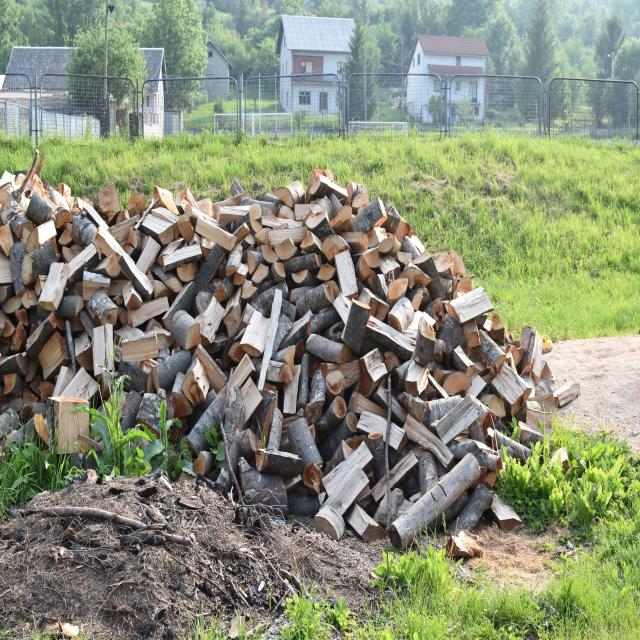restos de madeira: (318, 440, 374, 518), (416, 452, 472, 530), (39, 244, 101, 311), (180, 245, 222, 315), (237, 460, 288, 516), (75, 264, 128, 314), (370, 450, 419, 504), (389, 492, 434, 550), (285, 416, 323, 484), (49, 396, 90, 457), (186, 398, 225, 458), (489, 360, 532, 414), (355, 409, 406, 453), (356, 242, 391, 306), (259, 292, 283, 383), (436, 404, 482, 451), (365, 318, 416, 359), (8, 151, 44, 208), (386, 205, 424, 258), (148, 350, 191, 393), (2, 413, 46, 455), (341, 298, 372, 356), (445, 283, 491, 321), (344, 501, 385, 543), (458, 484, 493, 533), (321, 412, 356, 461), (235, 310, 270, 359), (487, 430, 532, 468), (180, 352, 210, 406), (135, 393, 170, 439), (60, 366, 102, 404), (374, 387, 412, 429), (404, 412, 440, 456), (118, 254, 153, 298), (192, 292, 224, 340), (357, 348, 388, 397), (255, 447, 302, 479), (276, 311, 312, 352), (472, 330, 506, 373), (367, 428, 392, 486), (434, 313, 465, 359), (115, 323, 159, 355), (169, 310, 203, 351), (451, 437, 492, 471), (165, 280, 198, 322), (25, 316, 58, 358), (37, 332, 67, 378), (238, 376, 264, 429), (240, 195, 266, 248), (127, 296, 170, 328), (316, 394, 348, 437), (350, 198, 387, 235), (296, 283, 335, 317), (348, 390, 388, 423), (322, 359, 362, 392), (518, 325, 542, 380), (195, 346, 223, 393), (372, 488, 404, 529), (307, 336, 352, 365), (223, 429, 247, 483), (26, 240, 60, 278), (138, 212, 178, 244), (224, 384, 246, 442), (488, 492, 521, 530), (333, 249, 358, 299), (249, 286, 285, 320), (401, 309, 435, 345), (161, 242, 203, 271), (9, 241, 30, 299), (306, 172, 344, 204), (314, 504, 346, 542), (134, 234, 161, 278), (92, 322, 114, 376), (94, 181, 122, 222), (225, 358, 253, 398), (169, 373, 193, 419), (282, 363, 302, 418), (260, 215, 310, 237), (194, 215, 227, 248), (114, 359, 150, 389), (264, 406, 284, 460), (118, 390, 142, 434), (415, 254, 440, 296), (26, 192, 55, 228), (387, 297, 416, 333), (70, 212, 99, 248), (417, 450, 437, 502), (257, 388, 278, 437), (398, 390, 428, 424), (77, 197, 106, 230), (286, 489, 321, 516), (280, 254, 319, 278), (268, 227, 308, 250), (404, 362, 430, 397), (524, 407, 553, 438), (518, 427, 550, 455), (108, 217, 138, 246), (29, 218, 58, 248), (23, 403, 49, 436), (320, 234, 350, 262), (0, 354, 31, 381), (308, 366, 327, 410), (364, 292, 390, 324), (434, 368, 465, 393), (226, 242, 247, 278), (296, 352, 310, 406), (175, 186, 200, 216), (452, 345, 476, 376), (151, 187, 178, 214), (310, 215, 336, 243), (223, 300, 242, 338), (206, 244, 226, 280), (554, 382, 581, 408), (71, 331, 92, 364), (52, 366, 73, 399), (265, 359, 295, 382), (333, 295, 353, 329), (465, 351, 490, 378), (9, 214, 33, 242), (549, 445, 570, 477), (486, 313, 506, 346), (78, 308, 97, 342), (193, 450, 216, 478), (121, 282, 142, 312), (281, 181, 306, 206), (0, 201, 23, 228), (148, 205, 179, 225), (0, 407, 20, 438), (177, 214, 196, 246), (0, 396, 25, 420), (387, 278, 409, 305), (216, 205, 249, 223), (465, 373, 487, 399), (462, 316, 481, 346), (10, 321, 28, 352), (0, 246, 14, 285), (127, 192, 147, 219), (49, 189, 72, 212), (1, 293, 24, 315), (533, 391, 555, 414), (22, 355, 40, 383), (486, 394, 507, 418), (0, 224, 15, 257), (507, 344, 524, 372), (104, 252, 122, 278), (431, 299, 446, 330), (54, 207, 74, 230), (176, 263, 198, 283), (252, 263, 270, 285), (2, 373, 18, 397), (0, 316, 17, 338), (533, 378, 553, 396), (0, 170, 16, 190), (540, 361, 554, 383), (230, 178, 246, 196)
